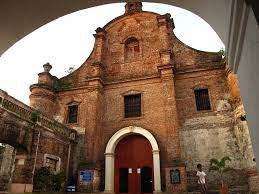santa_maria_church_santa_maria_ilocos_sur: (27, 1, 259, 194)
unfinished_paint: (179, 105, 259, 176)
